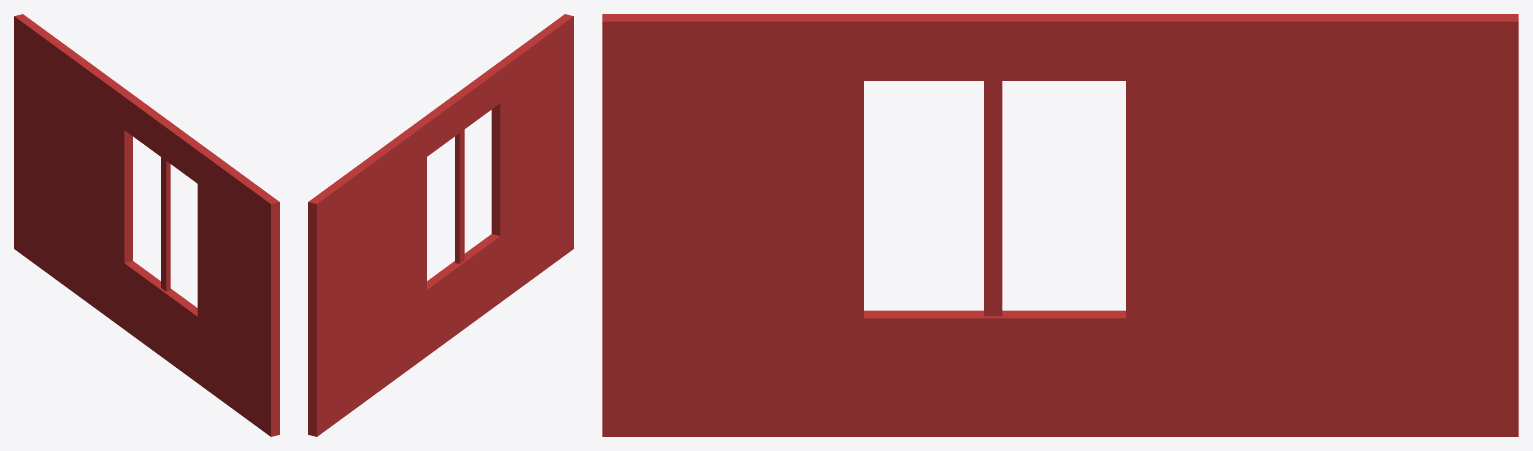
Rendered from wall.fbx.
3 renders of one model, left to right at view 1: azimuth 30°, elevation 25°; view 2: azimuth 150°, elevation 25°; view 3: azimuth 270°, elevation 25°, orthographic. The views are drawn at different scales.
Visible parts, largest first — view 1: pCube10, pCube11; view 2: pCube10, pCube11; view 3: pCube10, pCube11.
Part boxes in pixels (left/top/right/bottom): pCube10: left=14, top=14, right=279, bottom=436; pCube11: left=161, top=157, right=170, bottom=291; pCube10: left=308, top=14, right=573, bottom=436; pCube11: left=455, top=129, right=464, bottom=263; pCube10: left=602, top=14, right=1518, bottom=436; pCube11: left=984, top=81, right=1002, bottom=316.
Size of the model in its own units: 10 by 250 by 500.
